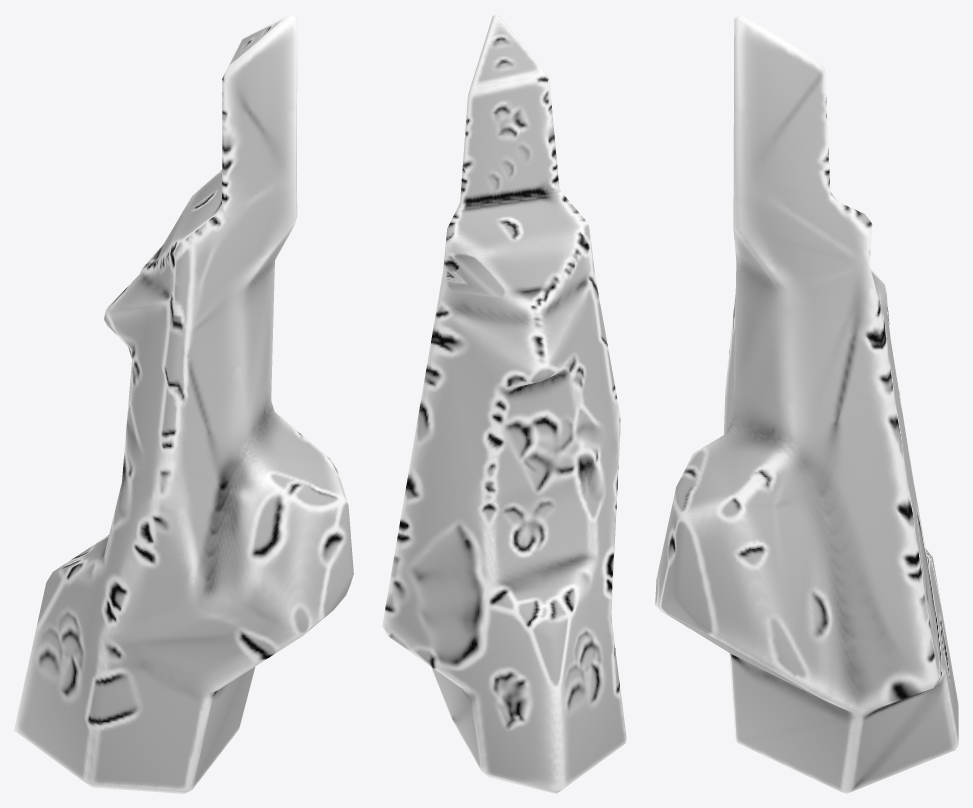
The model's file is rock_large_1.glb.
3 renders of one model, left to right at view 1: azimuth 30°, elevation 25°; view 2: azimuth 150°, elevation 25°; view 3: azimuth 270°, elevation 25°, orthographic. The views are drawn at different scales.
Visible parts, largest first — view 1: rock_big_1_prop-col; view 2: rock_big_1_prop-col; view 3: rock_big_1_prop-col.
Part boxes in pixels (box(x1,y1,x2,y2)): rock_big_1_prop-col: box(14, 14, 353, 793); rock_big_1_prop-col: box(382, 14, 626, 793); rock_big_1_prop-col: box(655, 14, 958, 793).
Size of the model in its own units: 3.7 by 11.35 by 3.98.
Materials: 1 (1 with a texture image).
